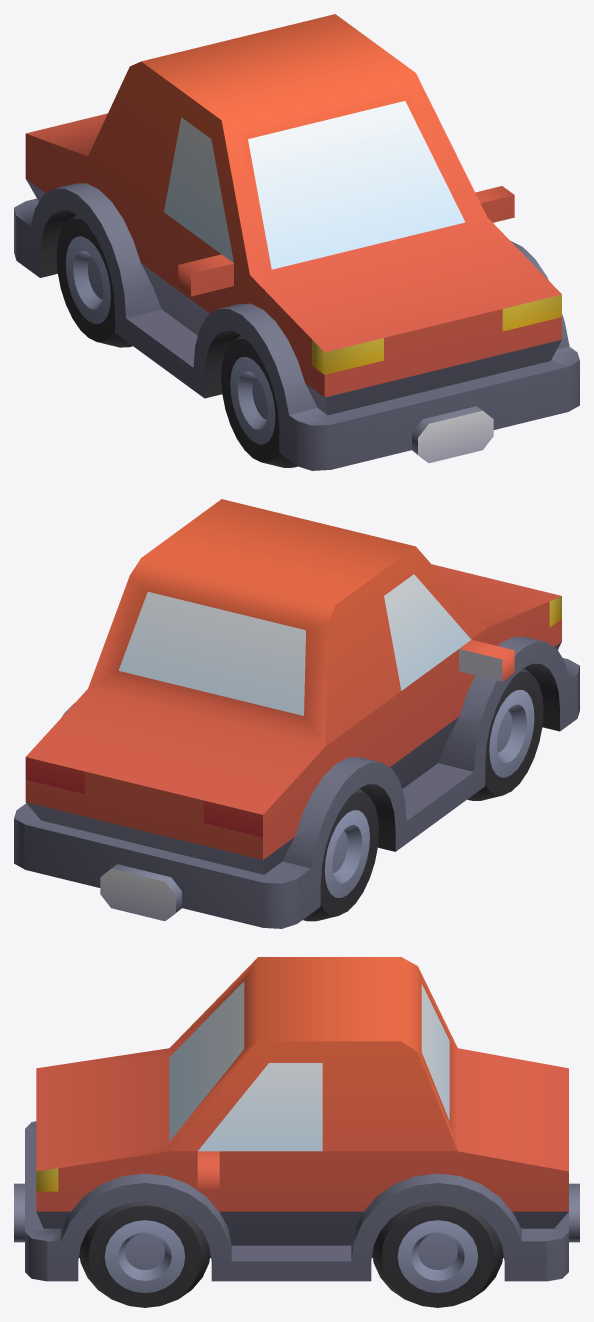
File: car-sedan.obj
3 views of the same model, one above another, from view 1: azimuth 30°, elevation 25°; view 2: azimuth 150°, elevation 25°; view 3: azimuth 270°, elevation 25° (orthographic). The views are drawn at different scales.
Parts seen in each view (by area): view 1: body, wheel-front-right, wheel-back-right; view 2: body, wheel-back-right, wheel-front-right; view 3: body, wheel-back-left, wheel-front-left.
Part boxes in pixels (x1,y1,x2,y2): body: (14,14,579,470); wheel-front-right: (221,335,297,467); wheel-back-right: (56,214,132,347); body: (14,499,579,928); wheel-back-right: (303,788,378,921); wheel-front-right: (467,668,543,800); body: (14,957,579,1281); wheel-back-left: (372,1201,503,1307); wheel-front-left: (79,1201,210,1307).
Size of the model in its own units: 1.5 by 1.3 by 2.55.
